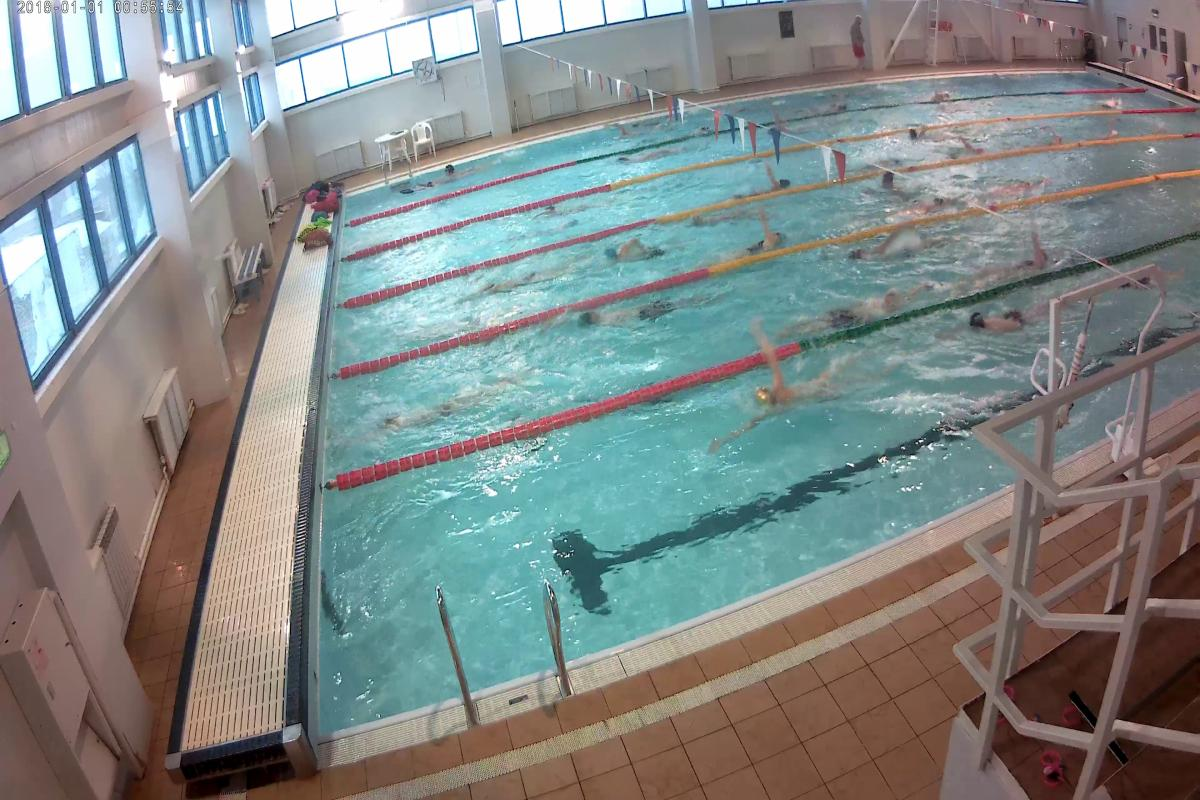swimmer: (721, 354, 856, 449), (564, 288, 711, 336), (974, 222, 1057, 291), (816, 285, 908, 328), (967, 299, 1039, 342), (489, 260, 566, 300), (686, 200, 761, 230), (744, 214, 792, 258), (853, 234, 926, 262), (608, 231, 659, 270), (901, 190, 972, 214), (984, 172, 1046, 198), (749, 163, 798, 188), (875, 164, 908, 195), (902, 124, 930, 141)
